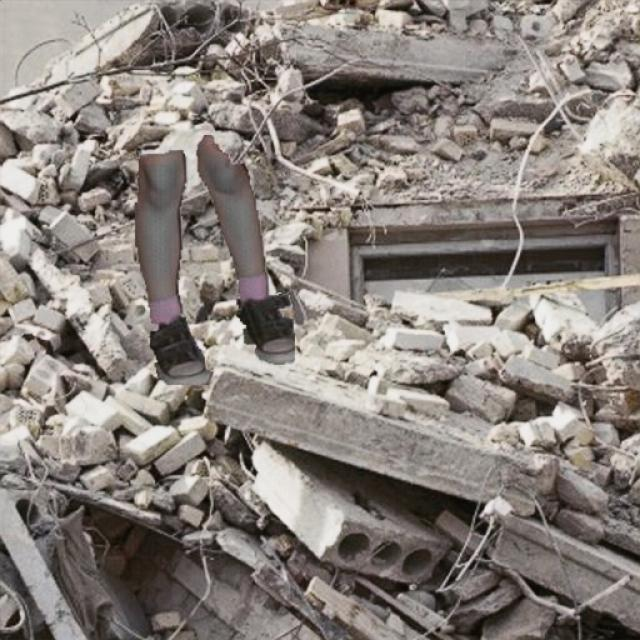Person in Rubble: (135, 135, 294, 384)
